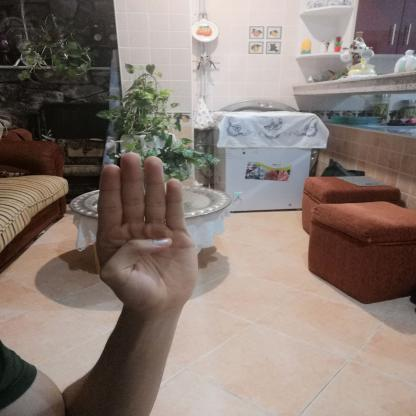KAAF: (74, 142, 223, 326)
